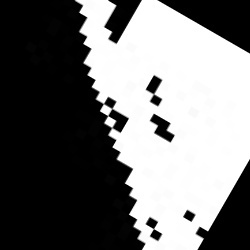spot: (75, 2, 248, 249)
